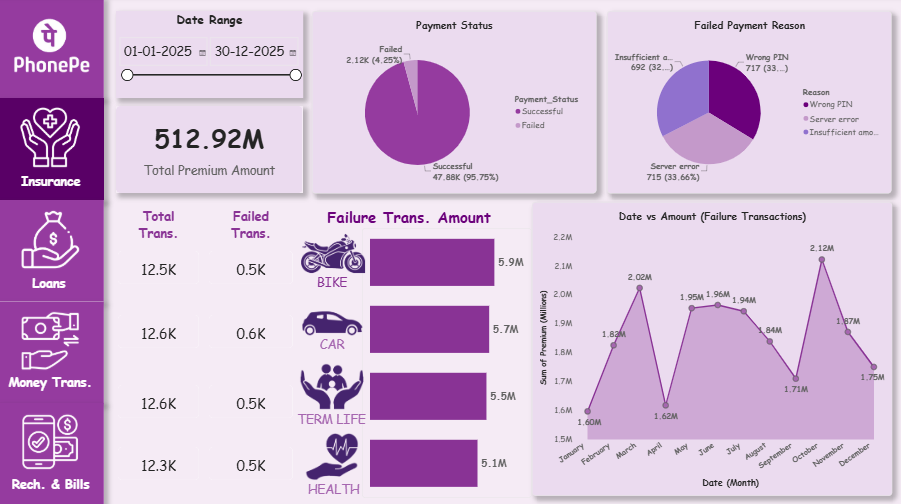

The page's visual inventory and layout, read from the dashboard file:
{"tool":"powerbi","page":{"name":"Insurance","canvas":[1920,1080],"ordinal":1},"visuals":[{"type":"group","id":"g1","title":"Group 1","box":[0,0,227.5,216],"z":0},{"type":"shape","box":[0,0,227.5,216],"z":0,"group":"g1"},{"type":"shape","box":[0,215,227.5,217.5],"z":0,"group":"g2"},{"type":"cardVisual","fields":{"Data":["Count(Insurance.Transaction_ID)"]},"box":[257.2,540,172.2,70.2],"z":0,"group":"g7"},{"type":"cardVisual","fields":{"Data":["Count(Insurance.Transaction_ID)"]},"box":[450.7,540,178.6,70.2],"z":0,"group":"g8"},{"type":"group","id":"g2","title":"Group 2","box":[0,215,227.5,217.5],"z":1000},{"type":"shape","box":[0,432,227.5,216],"z":1000,"group":"g3"},{"type":"cardVisual","fields":{"Data":["Count(Insurance.Transaction_ID)"]},"box":[257.2,676.1,172.2,70.2],"z":1000,"group":"g7"},{"type":"cardVisual","fields":{"Data":["Count(Insurance.Transaction_ID)"]},"box":[450.7,676.1,178.6,70.2],"z":1000,"group":"g8"},{"type":"group","id":"g3","title":"Group 3","box":[0,432,227.5,216],"z":2000},{"type":"shape","box":[0,648,227.5,216],"z":2000,"group":"g4"},{"type":"cardVisual","fields":{"Data":["Count(Insurance.Transaction_ID)"]},"box":[257.2,824.9,172.2,70.2],"z":2000,"group":"g7"},{"type":"cardVisual","fields":{"Data":["Count(Insurance.Transaction_ID)"]},"box":[450.7,824.9,178.6,70.2],"z":2000,"group":"g8"},{"type":"group","id":"g4","title":"Group 4","box":[0,648,227.5,216],"z":3000},{"type":"shape","box":[0,862.5,227.5,216],"z":3000,"group":"g5"},{"type":"cardVisual","fields":{"Data":["Count(Insurance.Transaction_ID)"]},"box":[257.2,956.7,172.2,70.2],"z":3000,"group":"g7"},{"type":"cardVisual","fields":{"Data":["Count(Insurance.Transaction_ID)"]},"box":[450.7,956.7,178.6,70.2],"z":3000,"group":"g8"},{"type":"image","box":[32.5,222.5,162.5,150],"z":4000,"group":"g2"},{"type":"textbox","box":[257.2,446.5,172.2,89.3],"z":4000,"group":"g7"},{"type":"textbox","box":[450.7,446.5,178.6,89.3],"z":4000,"group":"g8"},{"type":"group","id":"g5","title":"Group 5","box":[0,862.5,227.5,216],"z":4000},{"type":"image","box":[22.5,27.5,185,160],"z":5000,"group":"g1"},{"type":"actionButton","box":[0,432.5,227.5,215],"z":5000},{"type":"image","box":[37.5,447.5,155,135],"z":5000,"group":"g3"},{"type":"actionButton","box":[0,647.5,227.5,215],"z":6000},{"type":"image","box":[35,662.5,157.5,135],"z":6000,"group":"g4"},{"type":"actionButton","box":[0,862.5,227.5,215],"z":7000},{"type":"image","box":[32.5,877.5,162.5,135],"z":7000,"group":"g5"},{"type":"actionButton","box":[0,0,227.5,215],"z":8000},{"type":"textbox","box":[37.5,372.5,152.5,47.5],"z":8000,"group":"g2"},{"type":"slicer","title":"Date Range","fields":{"Values":["All_Transactions.Date"]},"box":[252.5,30,397.5,185],"z":9000},{"type":"textbox","box":[693.1,446.5,365.7,44.6],"z":9000,"group":"g6"},{"type":"textbox","box":[35,590,152.5,47.5],"z":9000,"group":"g3"},{"type":"cardVisual","fields":{"Data":["Sum(Insurance.Premium)"]},"box":[252.5,232.5,397.5,185],"z":10000},{"type":"textbox","box":[5,800,217.5,47.5],"z":10000,"group":"g4"},{"type":"pieChart","title":"Payment Status","fields":{"Category":["Insurance.Payment_Status"],"Y":["CountNonNull(Insurance.Insurance_Type)"]},"box":[670,30,605,387.5],"z":11000},{"type":"textbox","box":[15,1015,197.5,45],"z":11000,"group":"g5"},{"type":"pieChart","title":"Failed Payment Reason","fields":{"Category":["Insurance.Reason"],"Y":["CountNonNull(Insurance.Premium)"]},"box":[1297.5,30,605,387.5],"z":12000},{"type":"lineChart","title":"Date vs Amount (Failure Transactions)","fields":{"Category":["Insurance.Date.Variation.Date Hierarchy.Month"],"Y":["Sum(Insurance.Premium)"]},"box":[1136.4,435.9,766,624.9],"z":13000},{"type":"group","id":"g6","title":"Group 6","box":[629.3,446.5,508.1,625],"z":14000},{"type":"group","id":"g7","title":"Group 7","box":[257.2,446.5,172.2,580.4],"z":15000},{"type":"clusteredBarChart","title":"Date vs Amount (Failure Transactions)","fields":{"Category":["Insurance.Insurance_Type"],"Y":["Sum(Insurance.Premium)"]},"box":[776,491.1,361.4,574],"z":15000,"group":"g6"},{"type":"group","id":"g8","title":"Group 8","box":[450.7,446.5,178.6,580.4],"z":16000},{"type":"image","box":[633.6,495.4,161.6,99.9],"z":16000,"group":"g6"},{"type":"image","box":[633.6,642.1,161.6,99.9],"z":17000,"group":"g6"},{"type":"image","box":[639.9,778.2,144.6,99.9],"z":18000,"group":"g6"},{"type":"image","box":[644.2,927,136.1,99.9],"z":19000,"group":"g6"},{"type":"textbox","box":[667.6,586.8,89.3,44.6],"z":20000,"group":"g6"},{"type":"textbox","box":[667.6,718.6,89.3,44.6],"z":21000,"group":"g6"},{"type":"textbox","box":[629.3,878.1,163.7,44.6],"z":22000,"group":"g6"},{"type":"textbox","box":[654.8,1026.9,121.2,44.6],"z":23000,"group":"g6"}]}

Visuals, with their boxes in screenshot pixels (x1, y1, x2, y2), scaled from the page's 1920x1080 canvas onto the 901x504 screenshot:
"Group 1" group: (left=0, top=0, right=107, bottom=101)
shape: (left=0, top=0, right=107, bottom=101)
shape: (left=0, top=100, right=107, bottom=202)
cardVisual - Count(Insurance.Transaction_ID): (left=121, top=252, right=202, bottom=285)
cardVisual - Count(Insurance.Transaction_ID): (left=212, top=252, right=295, bottom=285)
"Group 2" group: (left=0, top=100, right=107, bottom=202)
shape: (left=0, top=202, right=107, bottom=302)
cardVisual - Count(Insurance.Transaction_ID): (left=121, top=316, right=202, bottom=348)
cardVisual - Count(Insurance.Transaction_ID): (left=212, top=316, right=295, bottom=348)
"Group 3" group: (left=0, top=202, right=107, bottom=302)
shape: (left=0, top=302, right=107, bottom=403)
cardVisual - Count(Insurance.Transaction_ID): (left=121, top=385, right=202, bottom=418)
cardVisual - Count(Insurance.Transaction_ID): (left=212, top=385, right=295, bottom=418)
"Group 4" group: (left=0, top=302, right=107, bottom=403)
shape: (left=0, top=402, right=107, bottom=503)
cardVisual - Count(Insurance.Transaction_ID): (left=121, top=446, right=202, bottom=479)
cardVisual - Count(Insurance.Transaction_ID): (left=212, top=446, right=295, bottom=479)
image: (left=15, top=104, right=92, bottom=174)
textbox: (left=121, top=208, right=202, bottom=250)
textbox: (left=212, top=208, right=295, bottom=250)
"Group 5" group: (left=0, top=402, right=107, bottom=503)
image: (left=11, top=13, right=97, bottom=88)
actionButton: (left=0, top=202, right=107, bottom=302)
image: (left=18, top=209, right=90, bottom=272)
actionButton: (left=0, top=302, right=107, bottom=402)
image: (left=16, top=309, right=90, bottom=372)
actionButton: (left=0, top=402, right=107, bottom=503)
image: (left=15, top=410, right=92, bottom=472)
actionButton: (left=0, top=0, right=107, bottom=100)
textbox: (left=18, top=174, right=89, bottom=196)
"Date Range" slicer: (left=118, top=14, right=305, bottom=100)
textbox: (left=325, top=208, right=497, bottom=229)
textbox: (left=16, top=275, right=88, bottom=298)
cardVisual - Sum(Insurance.Premium): (left=118, top=108, right=305, bottom=195)
textbox: (left=2, top=373, right=104, bottom=396)
"Payment Status" pieChart: (left=314, top=14, right=598, bottom=195)
textbox: (left=7, top=474, right=100, bottom=495)
"Failed Payment Reason" pieChart: (left=609, top=14, right=893, bottom=195)
"Date vs Amount (Failure Transactions)" lineChart: (left=533, top=203, right=893, bottom=495)
"Group 6" group: (left=295, top=208, right=534, bottom=500)
"Group 7" group: (left=121, top=208, right=202, bottom=479)
"Date vs Amount (Failure Transactions)" clusteredBarChart: (left=364, top=229, right=534, bottom=497)
"Group 8" group: (left=212, top=208, right=295, bottom=479)
image: (left=297, top=231, right=373, bottom=278)
image: (left=297, top=300, right=373, bottom=346)
image: (left=300, top=363, right=368, bottom=410)
image: (left=302, top=433, right=366, bottom=479)
textbox: (left=313, top=274, right=355, bottom=295)
textbox: (left=313, top=335, right=355, bottom=356)
textbox: (left=295, top=410, right=372, bottom=431)
textbox: (left=307, top=479, right=364, bottom=500)
